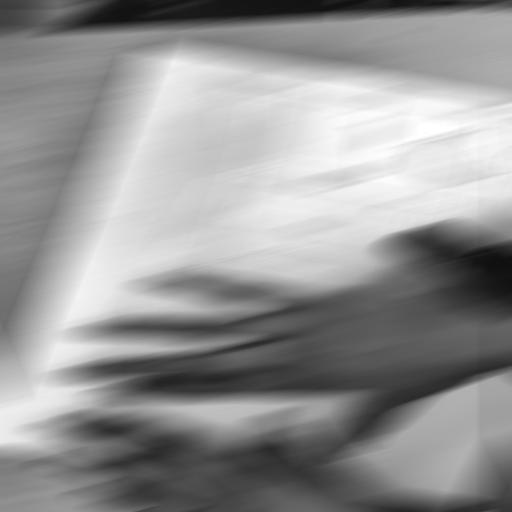bottom_right: (450, 502, 484, 510)
bus: (38, 0, 512, 512)
top_left: (135, 43, 163, 46)
